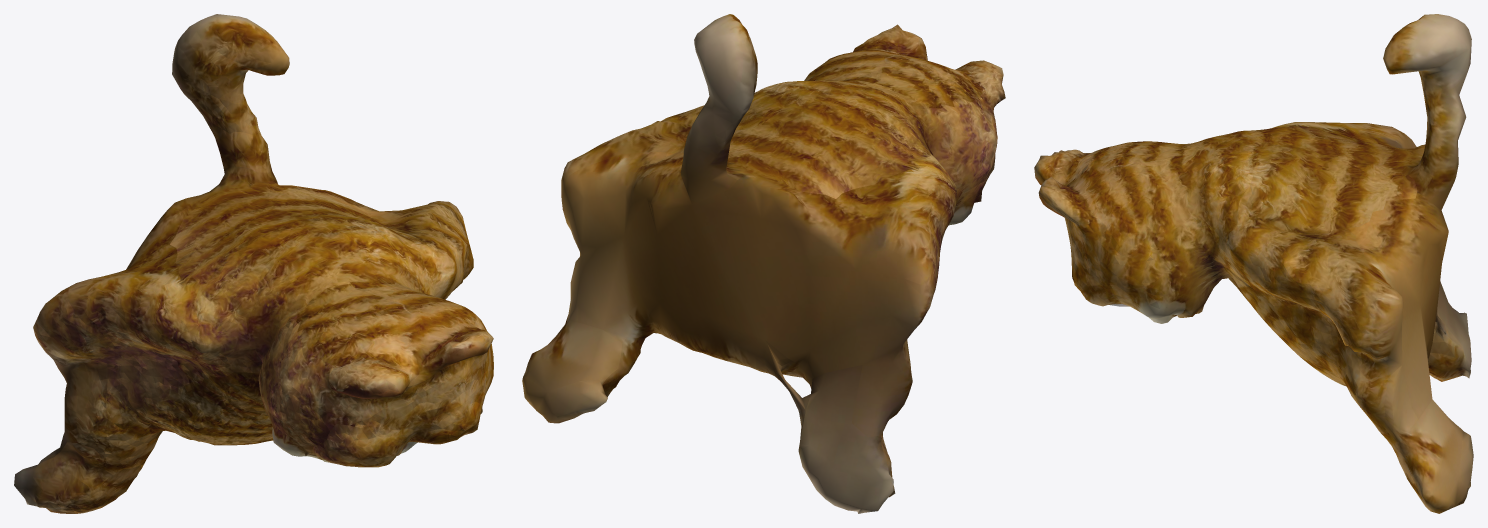
The model's file is LabCatGLTF.gltf.
3 views of the same model, side by side, from view 1: azimuth 30°, elevation 25°; view 2: azimuth 150°, elevation 25°; view 3: azimuth 270°, elevation 25° (orthographic). The views are drawn at different scales.
Visible parts, largest first — view 1: LabCat; view 2: LabCat; view 3: LabCat.
Boxes of the visible parts, left/top/right/bottom form: LabCat: left=14, top=14, right=493, bottom=513; LabCat: left=522, top=14, right=1005, bottom=513; LabCat: left=1034, top=14, right=1473, bottom=513.
Size of the model in its own units: 0.7712 by 0.8202 by 0.7745.
